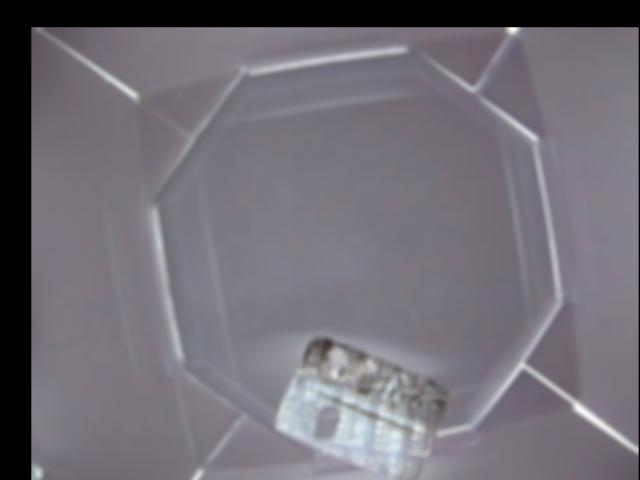Medicine: (276, 330, 449, 480)
